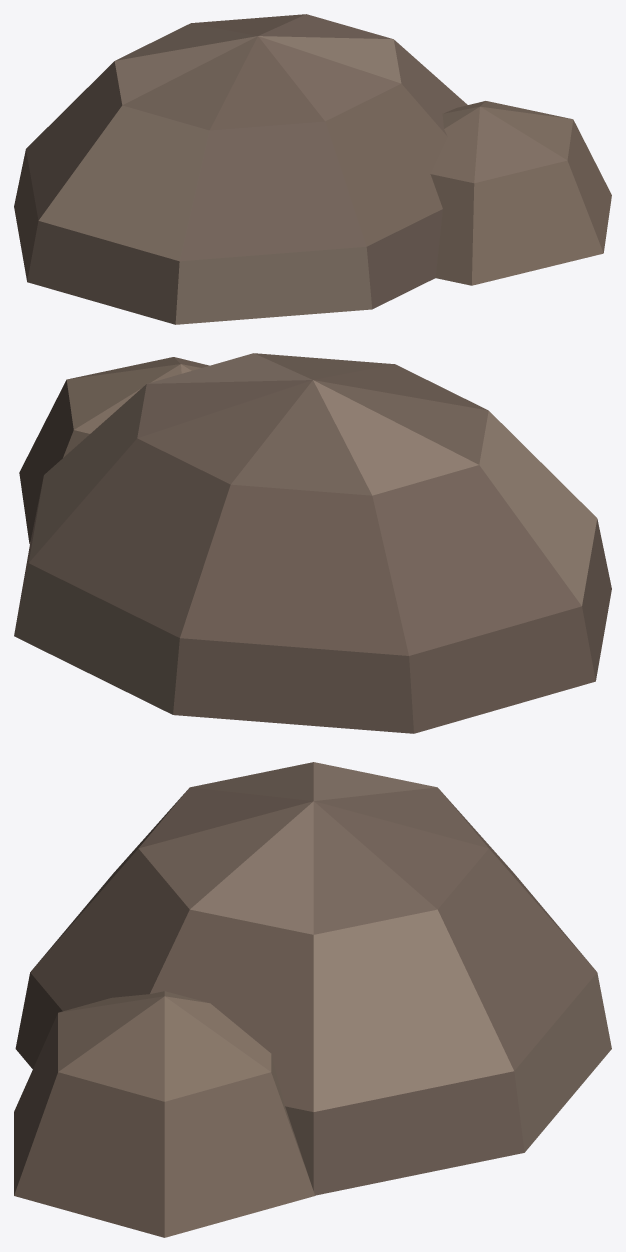
File: grave_truffle.glb
3 views of the same model, one above another, from view 1: azimuth 30°, elevation 25°; view 2: azimuth 150°, elevation 25°; view 3: azimuth 270°, elevation 25° (orthographic). The views are drawn at different scales.
Visible parts, largest first — view 1: grave_truffle; view 2: grave_truffle; view 3: grave_truffle.
Boxes of the visible parts, x1,y1,x2,y2 form: grave_truffle: (14, 14, 611, 324); grave_truffle: (14, 353, 611, 733); grave_truffle: (14, 762, 611, 1237).
Size of the model in its own units: 0.16 by 0.055 by 0.1203.
